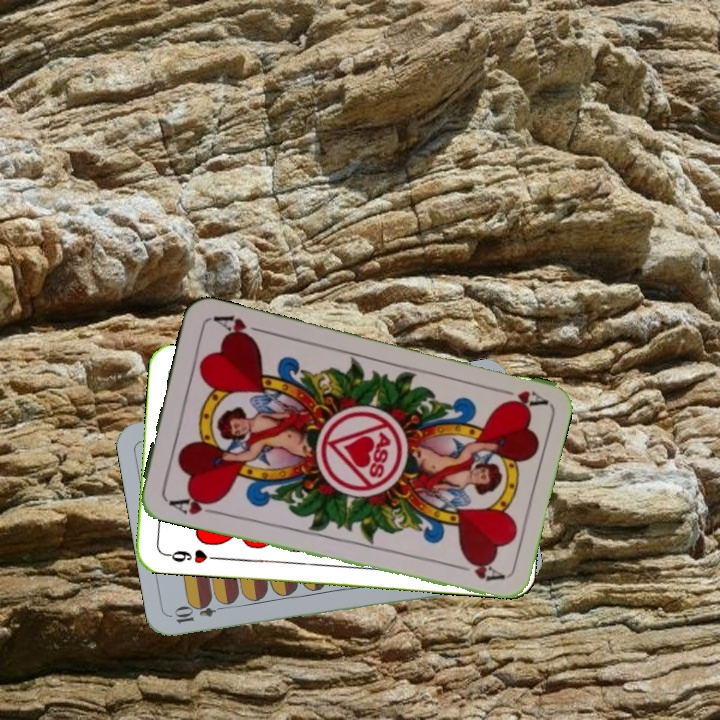E10: (170, 600, 229, 626)
H9: (160, 545, 219, 566)
HA: (489, 384, 548, 411), (164, 491, 222, 518)
